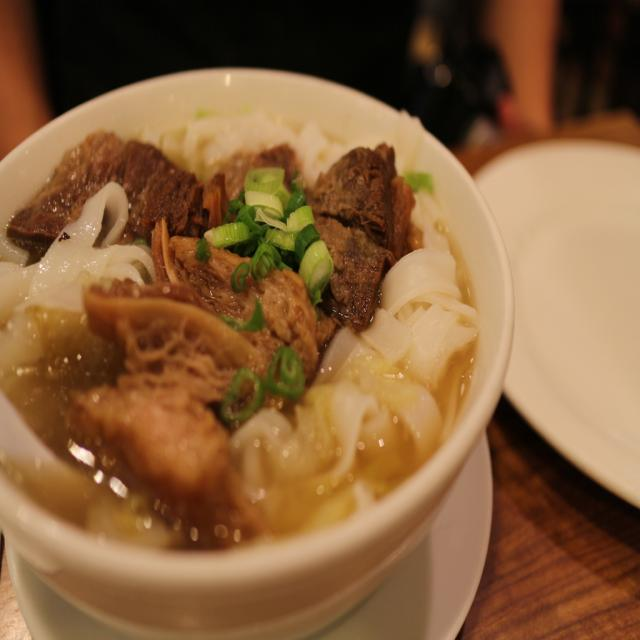non-organic waste: (0, 54, 500, 640)
